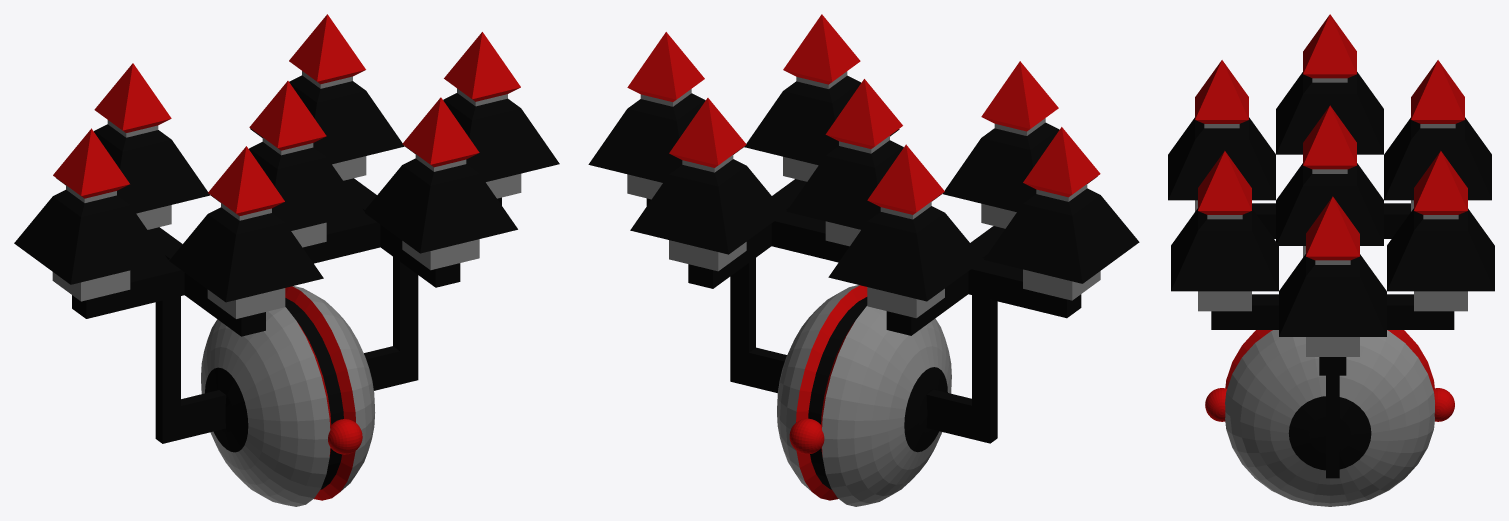
The model's file is Minion E.fbx.
3 views of the same model, side by side, from view 1: azimuth 30°, elevation 25°; view 2: azimuth 150°, elevation 25°; view 3: azimuth 270°, elevation 25° (orthographic). The views are drawn at different scales.
Parts seen in each view (by area): view 1: Cube; view 2: Cube; view 3: Cube.
Boxes of the visible parts, <box> form: Cube: <box>14,14,559,506</box>; Cube: <box>588,14,1139,506</box>; Cube: <box>1168,14,1494,506</box>.
Bounding box in the file's own units: 999 × 808 × 605.
